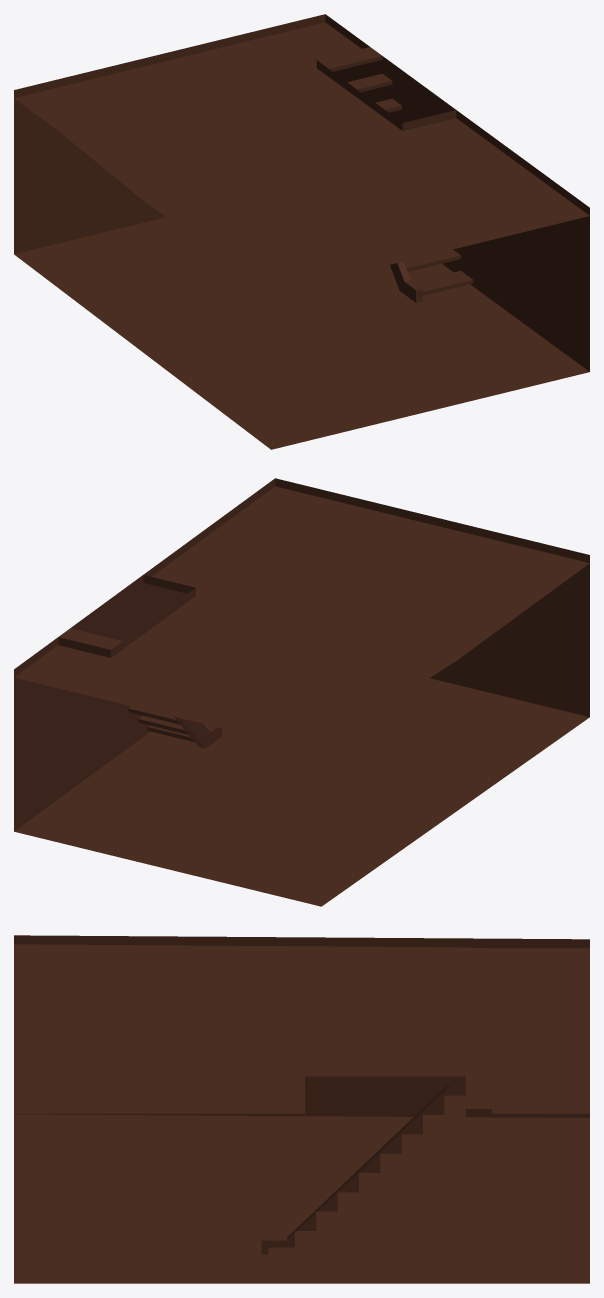
Rendered from Sotano.fbx.
The picture shows the model from 3 angles, top to bottom: view 1: azimuth 30°, elevation 25°; view 2: azimuth 150°, elevation 25°; view 3: azimuth 270°, elevation 25°; orthographic projection. The views are drawn at different scales.
Parts seen in each view (by area): view 1: Techo_Sotano, Suelo_Sotano, Pared_Sotano, Escaleras_Sotano; view 2: Techo_Sotano, Suelo_Sotano, Pared_Sotano, Escaleras_Sotano; view 3: Techo_Sotano, Suelo_Sotano, Pared_Sotano, Escaleras_Sotano.
Boxes of the visible parts, left/top/right/bottom form: Techo_Sotano: left=14, top=22, right=589, bottom=293; Suelo_Sotano: left=14, top=217, right=589, bottom=449; Pared_Sotano: left=14, top=14, right=589, bottom=371; Escaleras_Sotano: left=317, top=47, right=473, bottom=302; Techo_Sotano: left=14, top=486, right=589, bottom=752; Suelo_Sotano: left=14, top=678, right=589, bottom=906; Pared_Sotano: left=14, top=478, right=589, bottom=831; Escaleras_Sotano: left=58, top=628, right=222, bottom=748; Techo_Sotano: left=14, top=944, right=589, bottom=1113; Suelo_Sotano: left=14, top=1114, right=589, bottom=1283; Pared_Sotano: left=14, top=935, right=589, bottom=1117; Escaleras_Sotano: left=261, top=1076, right=492, bottom=1280.
Bounding box in the file's own units: 821 × 404 × 1181.
